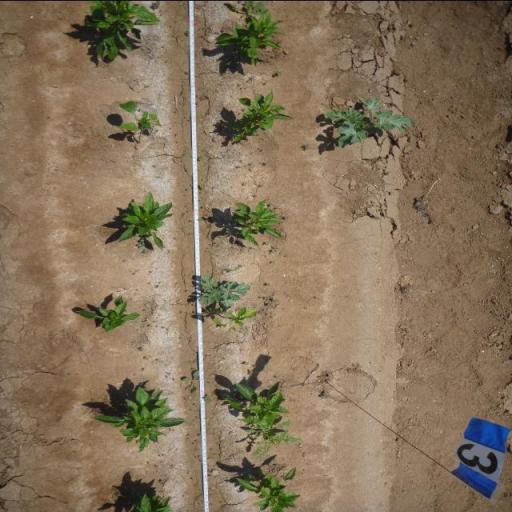plant: (90, 386, 186, 448), (80, 0, 150, 63), (213, 13, 287, 69), (228, 88, 300, 143), (116, 192, 173, 250), (236, 467, 302, 512), (222, 380, 292, 422), (75, 294, 141, 333), (114, 98, 165, 143), (231, 202, 284, 242), (199, 305, 262, 331), (133, 493, 174, 512)
weed: (324, 95, 413, 150), (244, 422, 303, 456), (199, 274, 254, 308), (228, 0, 269, 18), (182, 369, 199, 393), (136, 236, 146, 249), (150, 0, 162, 10), (204, 394, 213, 403), (246, 74, 256, 82), (320, 391, 330, 399), (234, 264, 244, 270), (302, 143, 310, 150), (248, 368, 254, 376), (241, 360, 249, 366), (188, 358, 197, 363), (158, 480, 165, 486), (142, 248, 149, 254), (198, 154, 204, 161), (226, 267, 234, 272), (274, 69, 282, 74), (272, 248, 278, 254), (264, 160, 270, 166), (184, 30, 190, 36), (143, 355, 149, 360), (138, 346, 144, 351), (199, 183, 205, 188), (183, 166, 188, 172), (263, 296, 270, 300), (274, 374, 280, 378), (263, 241, 269, 245), (235, 164, 241, 168), (275, 464, 280, 468), (284, 216, 289, 220), (147, 281, 152, 285), (265, 282, 271, 285), (266, 303, 272, 306), (252, 194, 258, 197), (184, 289, 190, 292), (140, 382, 144, 386), (198, 216, 202, 220), (241, 182, 246, 185), (122, 259, 126, 262), (272, 246, 278, 248), (258, 184, 264, 186), (249, 246, 255, 248), (123, 287, 127, 290), (184, 71, 188, 74), (270, 260, 275, 262), (148, 324, 152, 326), (270, 202, 272, 206)
